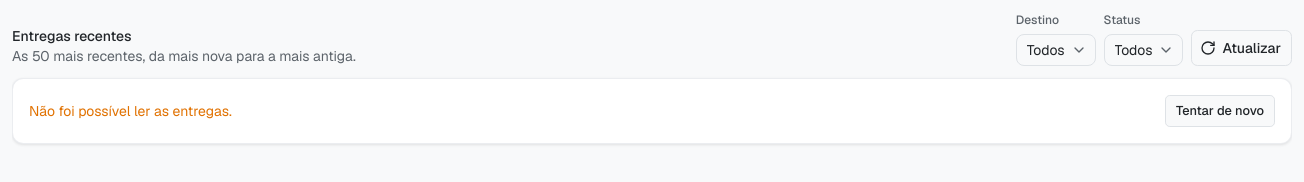
Test case: WebhookDeliveries › falha de leitura: o motivo e Tentar de novo (nunca uma lista vazia falsa)
Expected: the text "Não foi possível ler as entregas." is shown, top-left (29, 101), bottom-right (232, 121)
Click the button "Tentar de novo" at (1220, 111), box top-left (1165, 95), bottom-right (1275, 127)
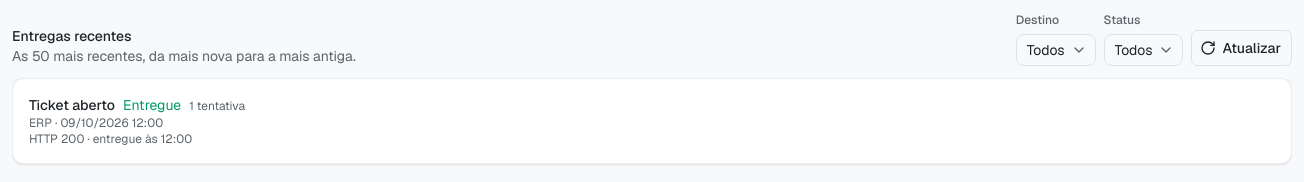
Result: the text "Entregue" is shown at top-left (123, 95), bottom-right (181, 115)
